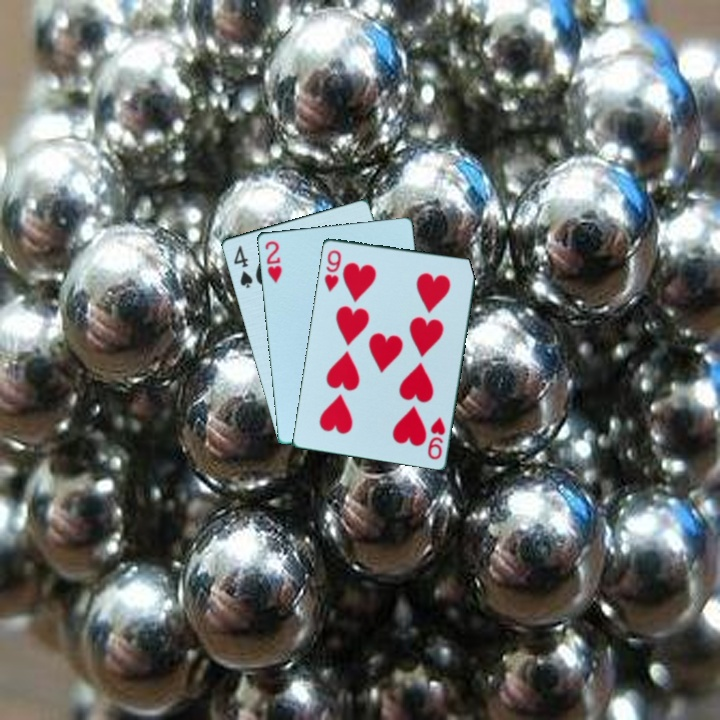2h: (261, 237, 284, 286)
4s: (230, 242, 255, 291)
9h: (424, 413, 448, 462), (321, 246, 344, 295)
